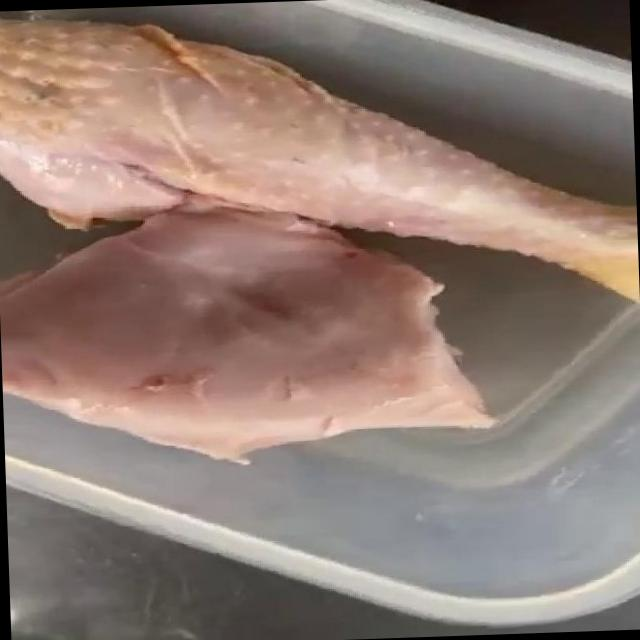chicken: (0, 0, 640, 467)
